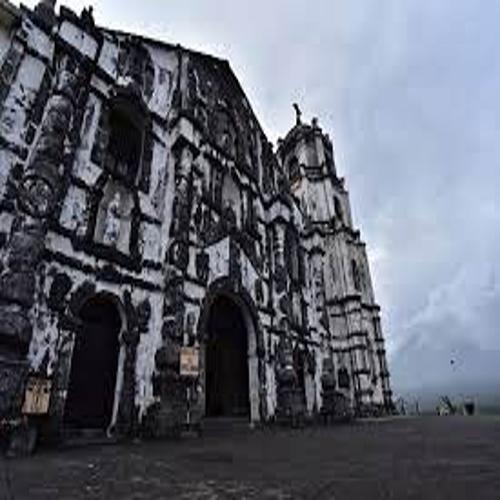Daraga Church: (19, 1, 395, 436)
